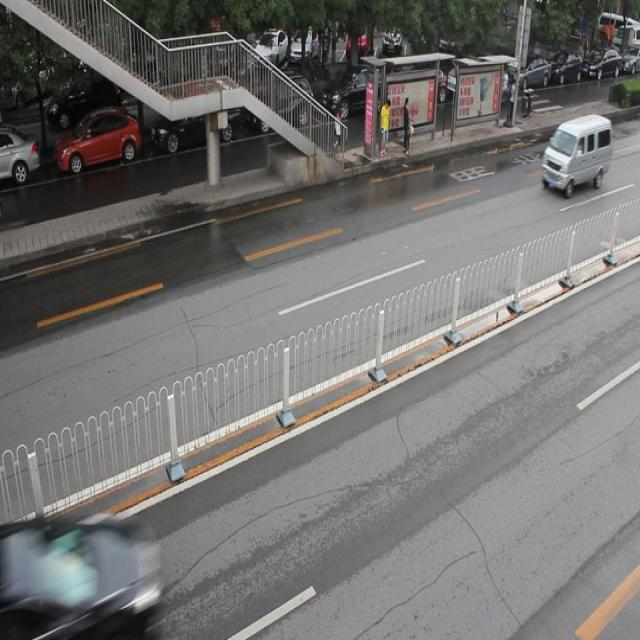car: (1, 512, 160, 640), (55, 106, 142, 173), (151, 96, 241, 149), (247, 74, 314, 131), (321, 65, 390, 119), (1, 126, 42, 184)
truck: (540, 114, 611, 193)
